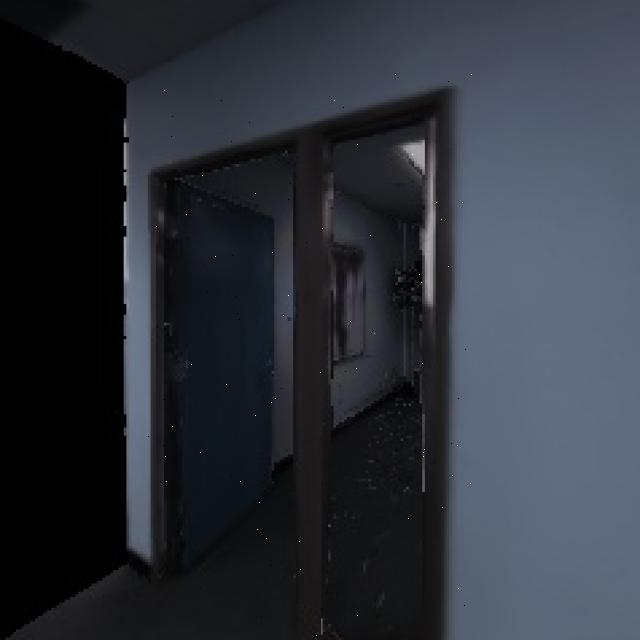door: (146, 174, 292, 552)
door-frame: (142, 72, 475, 640)
